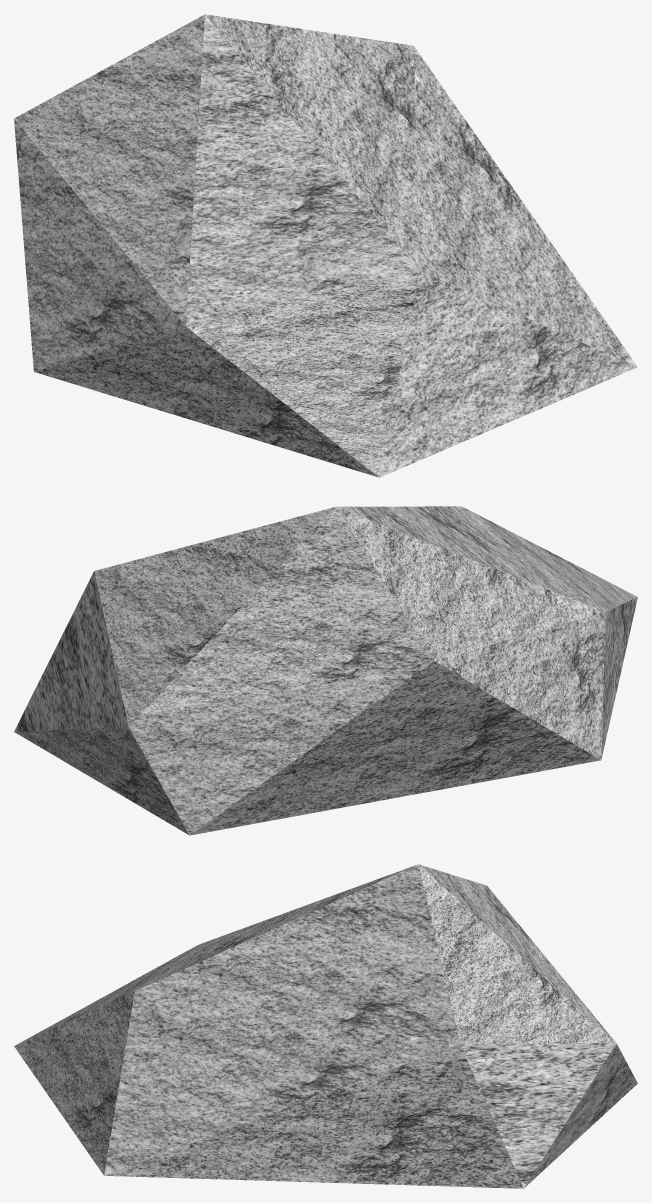
File: rock3.fbx
3 renders of one model, top to bottom at view 1: azimuth 30°, elevation 25°; view 2: azimuth 150°, elevation 25°; view 3: azimuth 270°, elevation 25°, orthographic. The views are drawn at different scales.
Visible parts, largest first — view 1: GeoSphere001; view 2: GeoSphere001; view 3: GeoSphere001.
Boxes of the visible parts, x1,y1,x2,y2 form: GeoSphere001: (14, 14, 637, 477); GeoSphere001: (14, 506, 637, 835); GeoSphere001: (14, 864, 637, 1188).
Size of the model in its own units: 51.59 by 25.97 by 67.53.
1 material, 1 textured.
